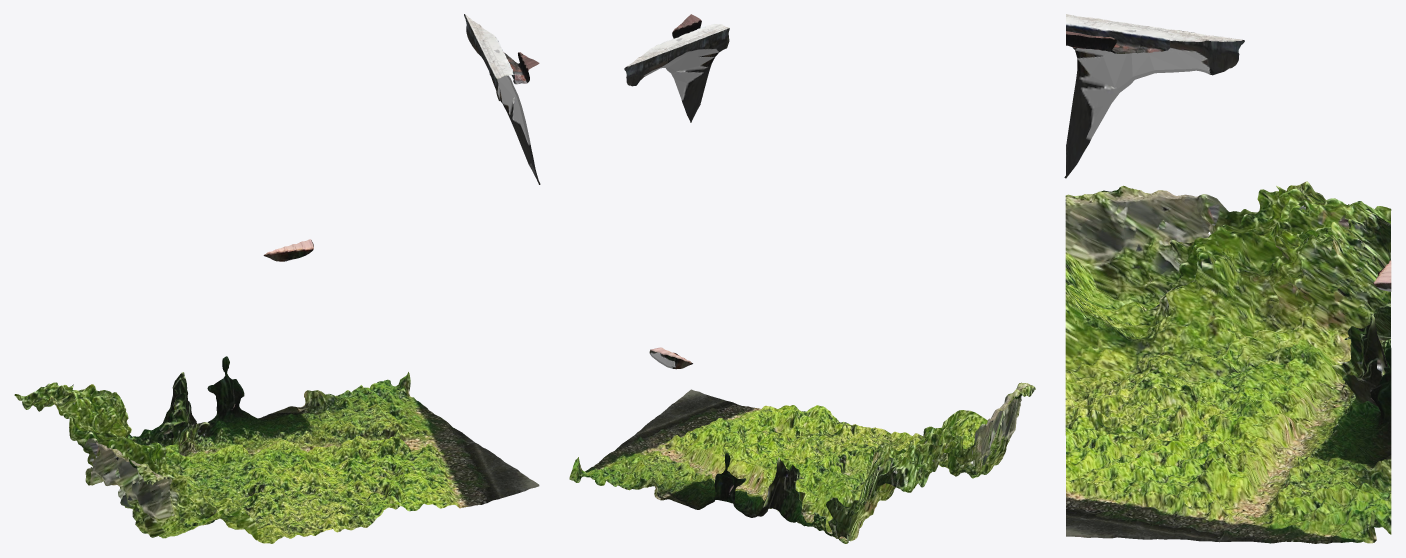
The picture shows the model from 3 angles, left to right: view 1: azimuth 30°, elevation 25°; view 2: azimuth 150°, elevation 25°; view 3: azimuth 270°, elevation 25°; orthographic projection. The views are drawn at different scales.
Visible parts, largest first — view 1: node_191; view 2: node_191; view 3: node_191.
Part boxes in pixels (<box>): node_191: <box>14,14,540,543</box>; node_191: <box>569,14,1035,543</box>; node_191: <box>1064,14,1391,543</box>.
Bounding box in the file's own units: 9.03 × 9.52 × 5.53.
1 material, 1 textured.
